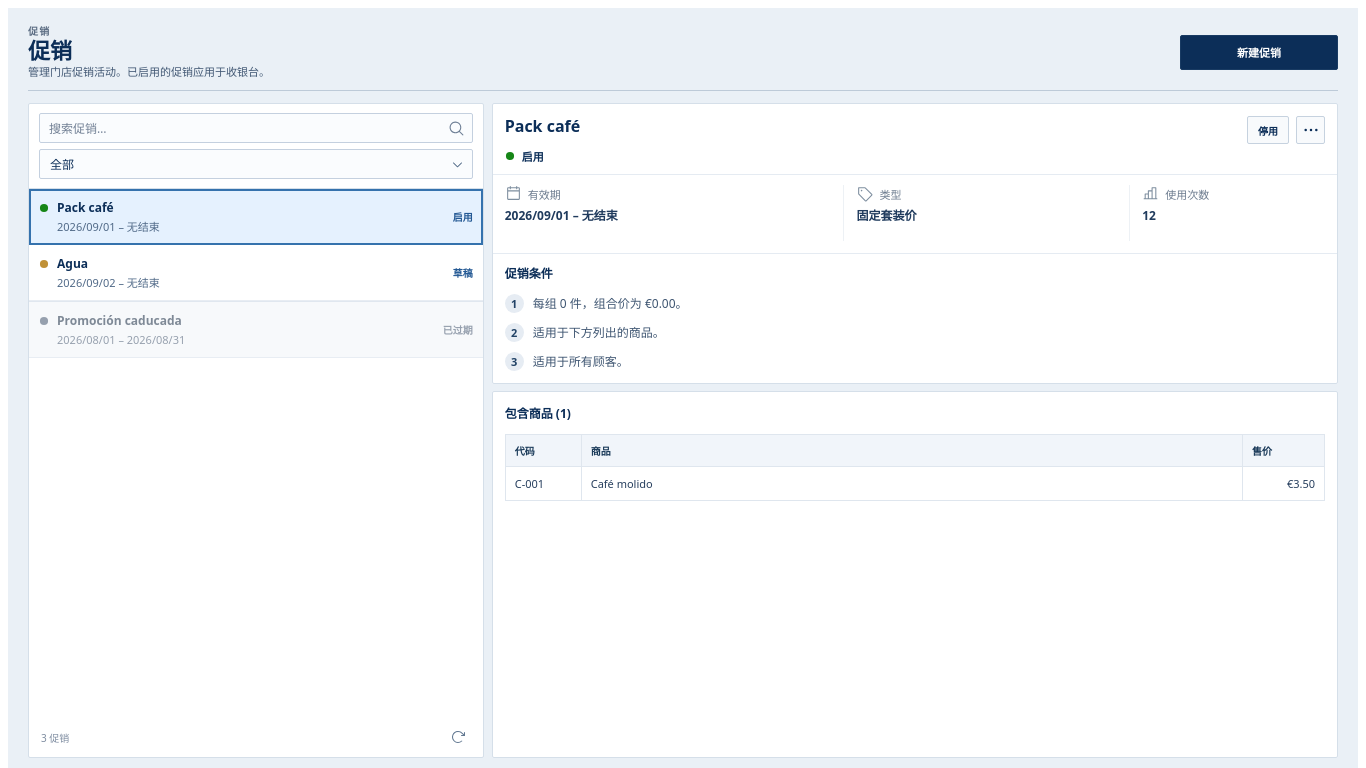
Test: Promotion list filters and detail › searches by the localized status in zh
This screenshot has width=1366, height=768.
Expected: the button "Agua 2026/09/02 – 无结束 草稿" is shown, [29,245,483,301]
In the search field labelled "搜索": (256, 128) [39,113,473,143], type "草稿"
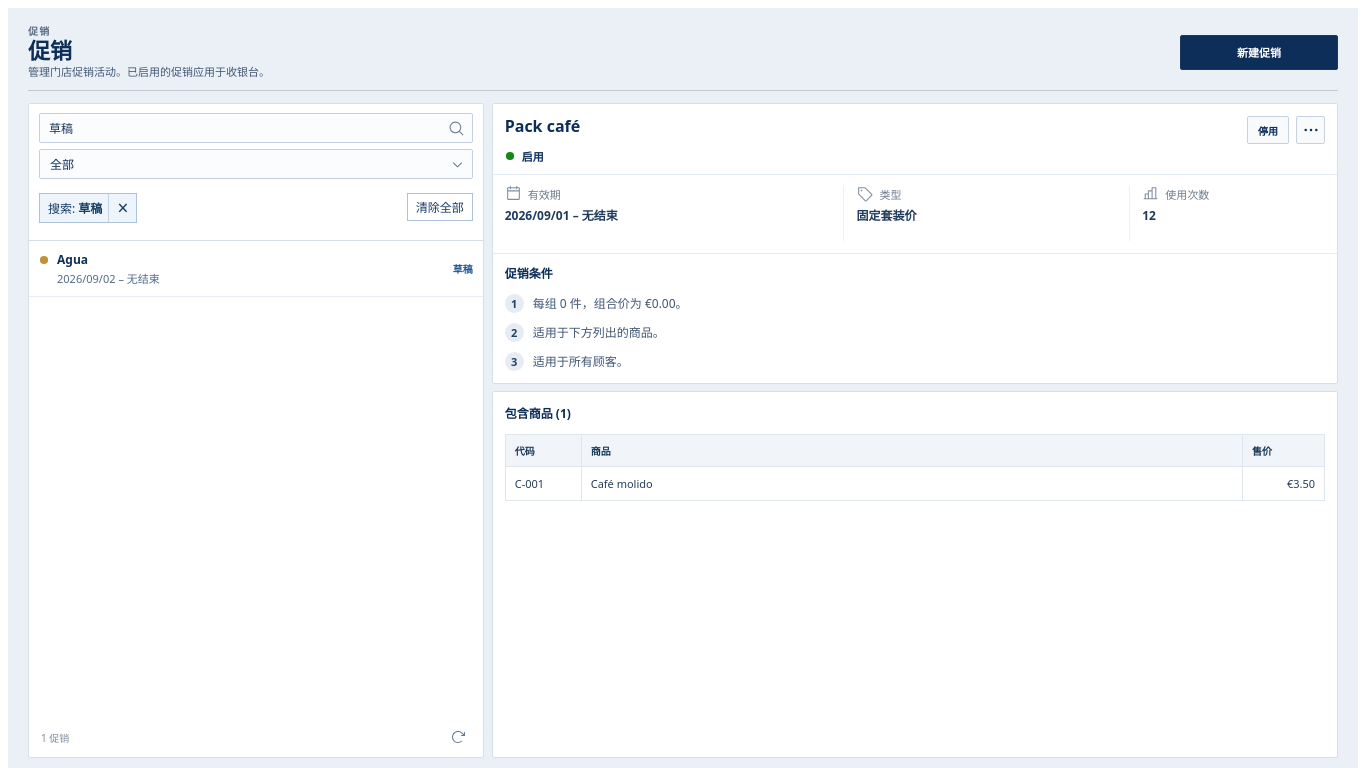
Expected: the button "Agua 2026/09/02 – 无结束 草稿" is shown, [29,241,483,297]
Click the button "清除全部": (440, 207) [407,193,473,221]
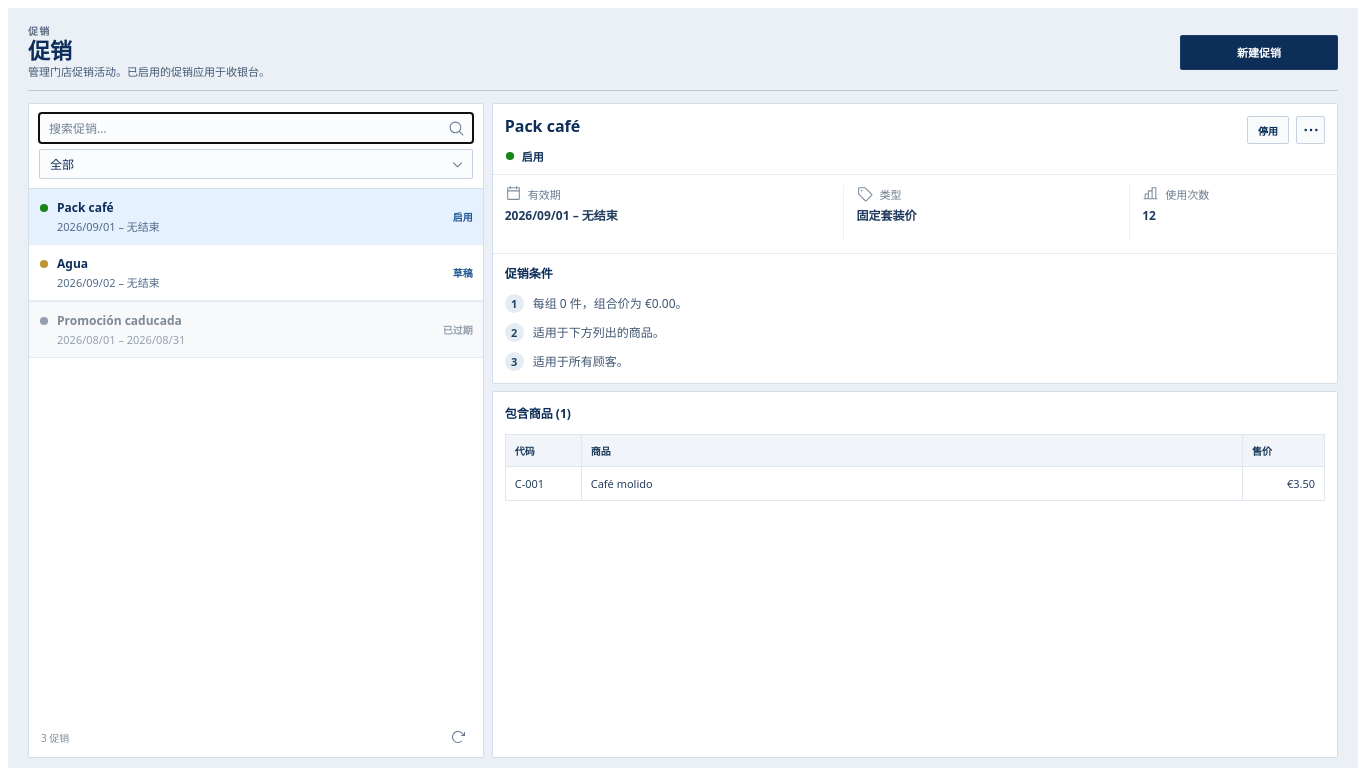
Expected: the button "Pack café 2026/09/01 – 无结束 启用" is shown, [29,189,483,245]
Expected: the search field labelled "搜索" is empty, [39,113,473,143]
